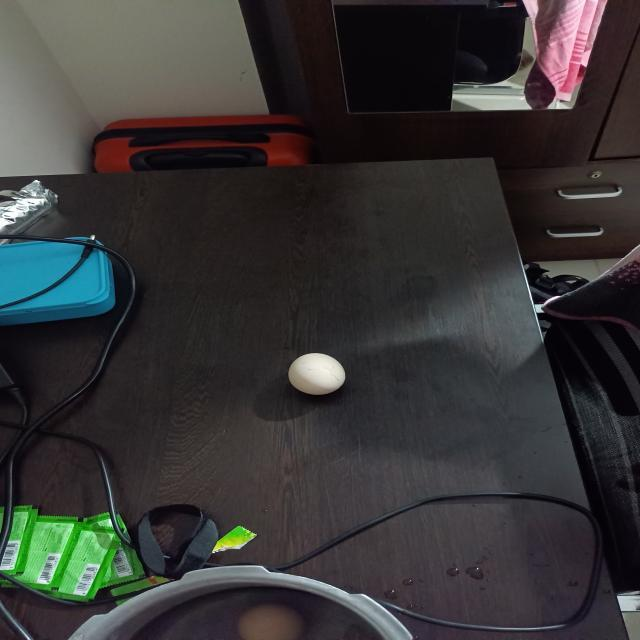biodegradable: (288, 352, 348, 396)
